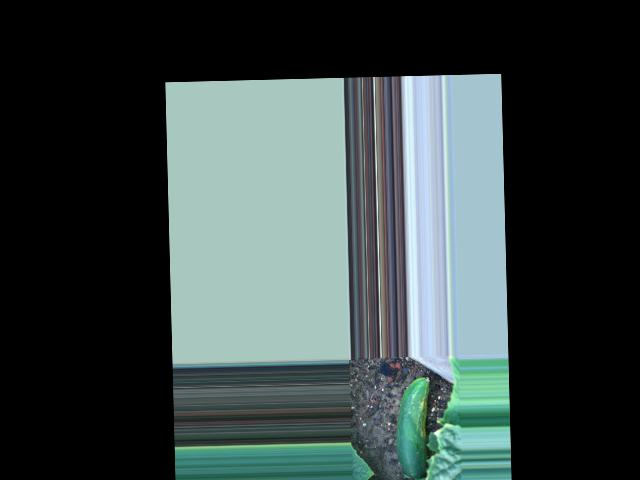cucumber: (395, 376, 432, 478)
